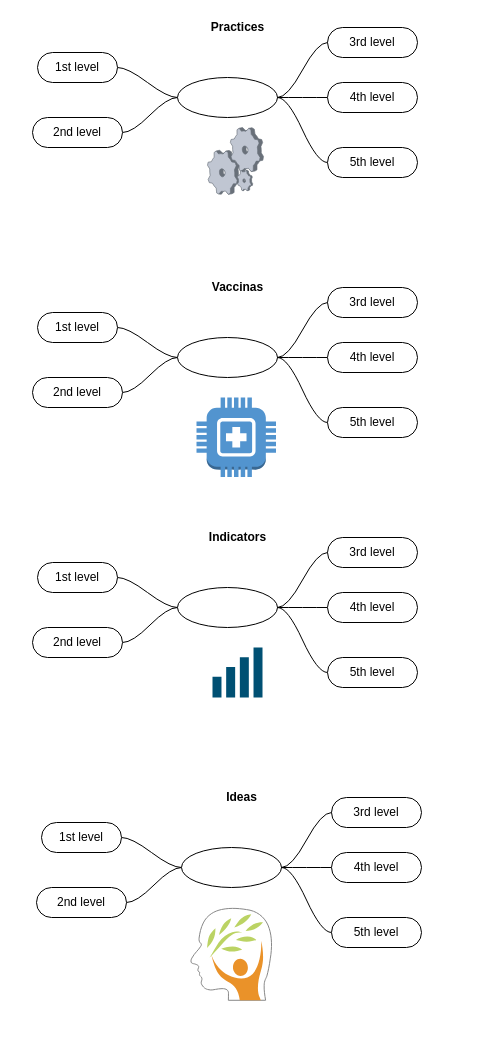
Some shapes in this 479 by 1060 pixel diagram are drawn without their labels. The shapes that lost their labels are listed below. From the top down, each one's centre as x and y in pixels, then its label:
At point (227, 97): "practice".
At point (227, 357): "vaccina".
At point (227, 607): "indica".
At point (231, 867): "idea".
